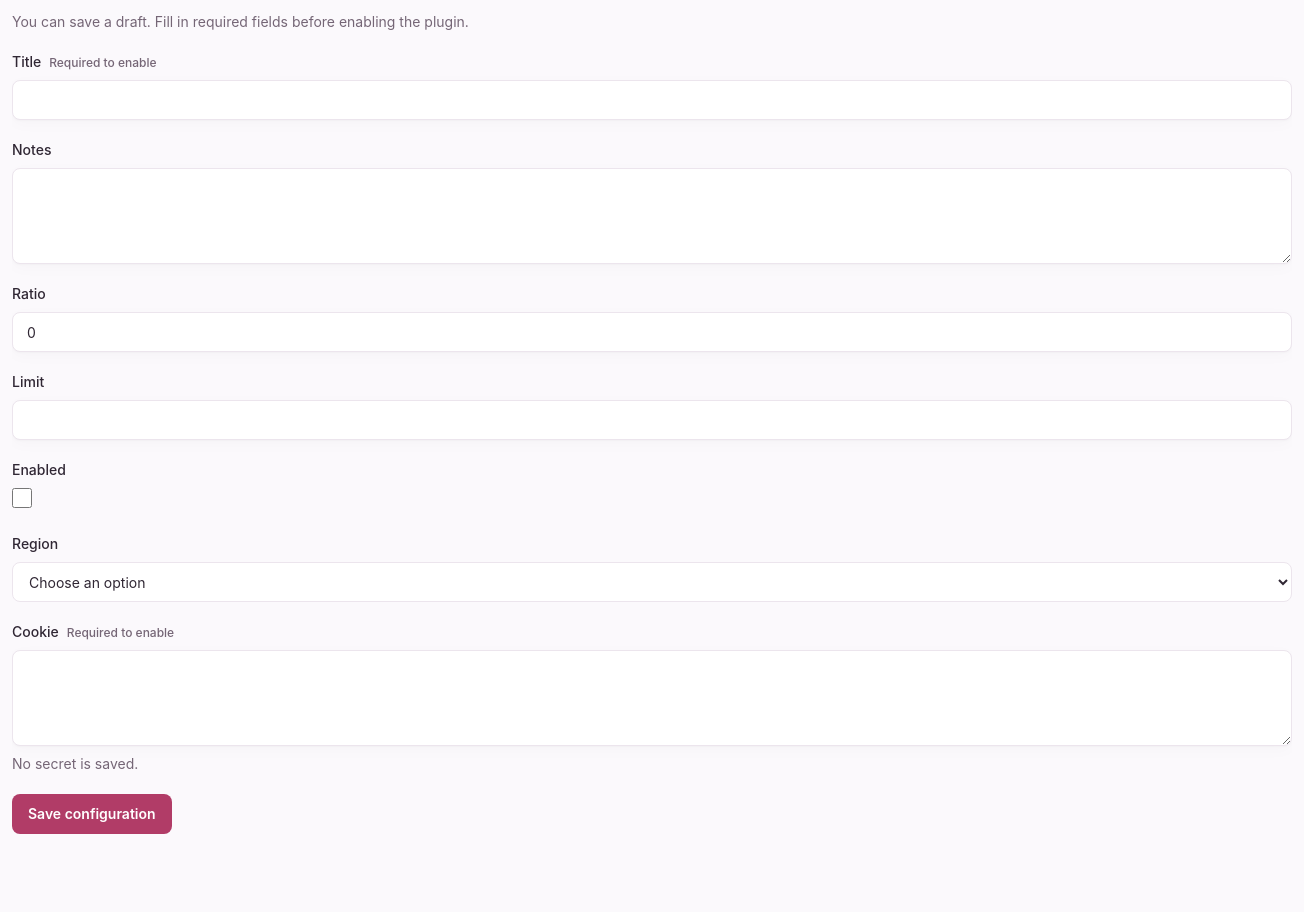
Test case: a failed save keeps the draft and retry clears new secrets only after success
In the field labelled "Title": (652, 100) [12,80,1292,120], type "Edited title"
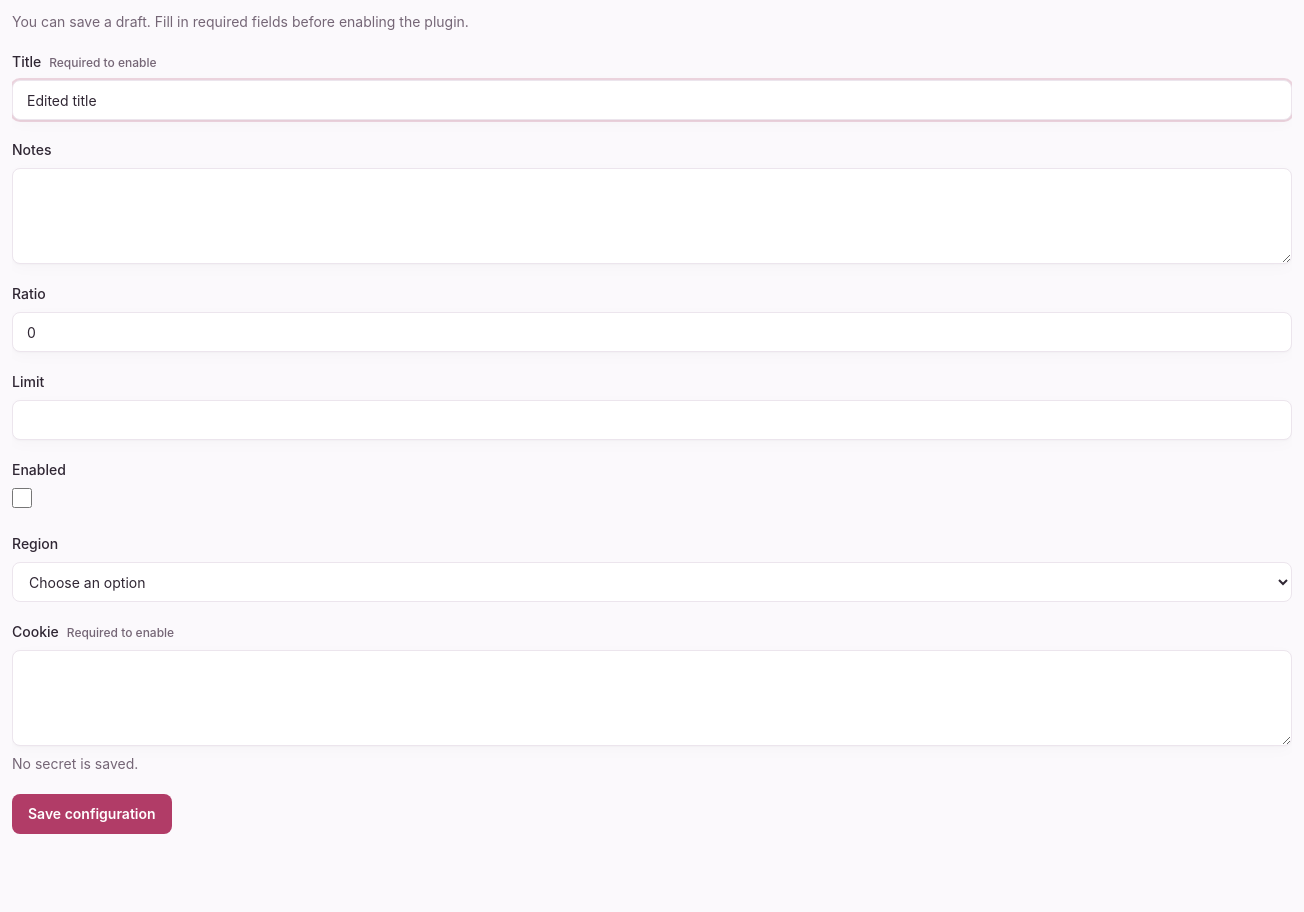
In the text box labelled "Cookie": (652, 698) [12,650,1292,746], type "synthetic-private-secret"
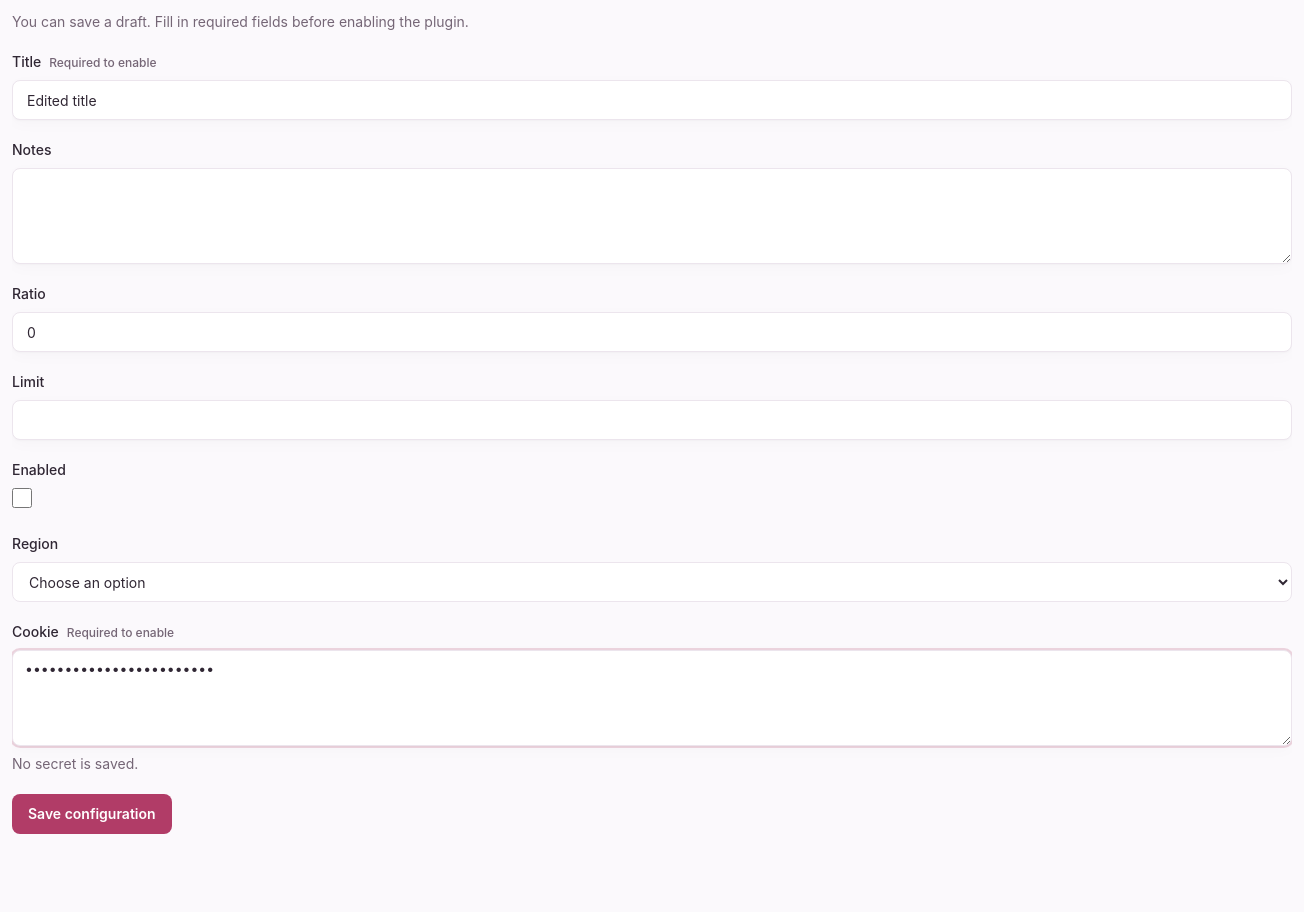
Click the button "Save configuration": (92, 814) [12,794,172,834]
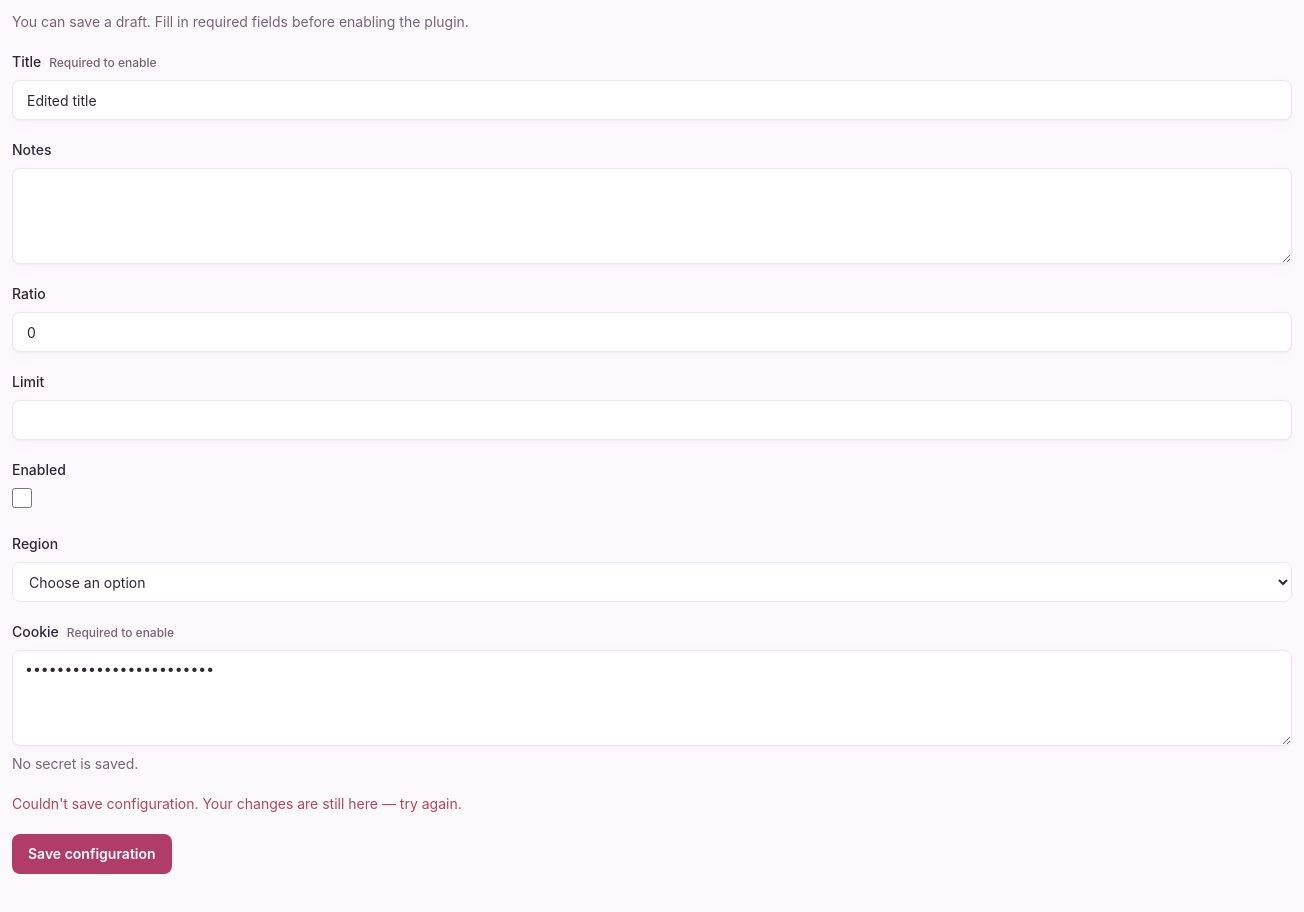
Check: the text "synthetic-private-secret" is not shown
Check: the message reads "Couldn't save configuration. Your changes are still here — try again.", box [12,795,462,812]
Click the button "Save configuration": (92, 854) [12,834,172,874]
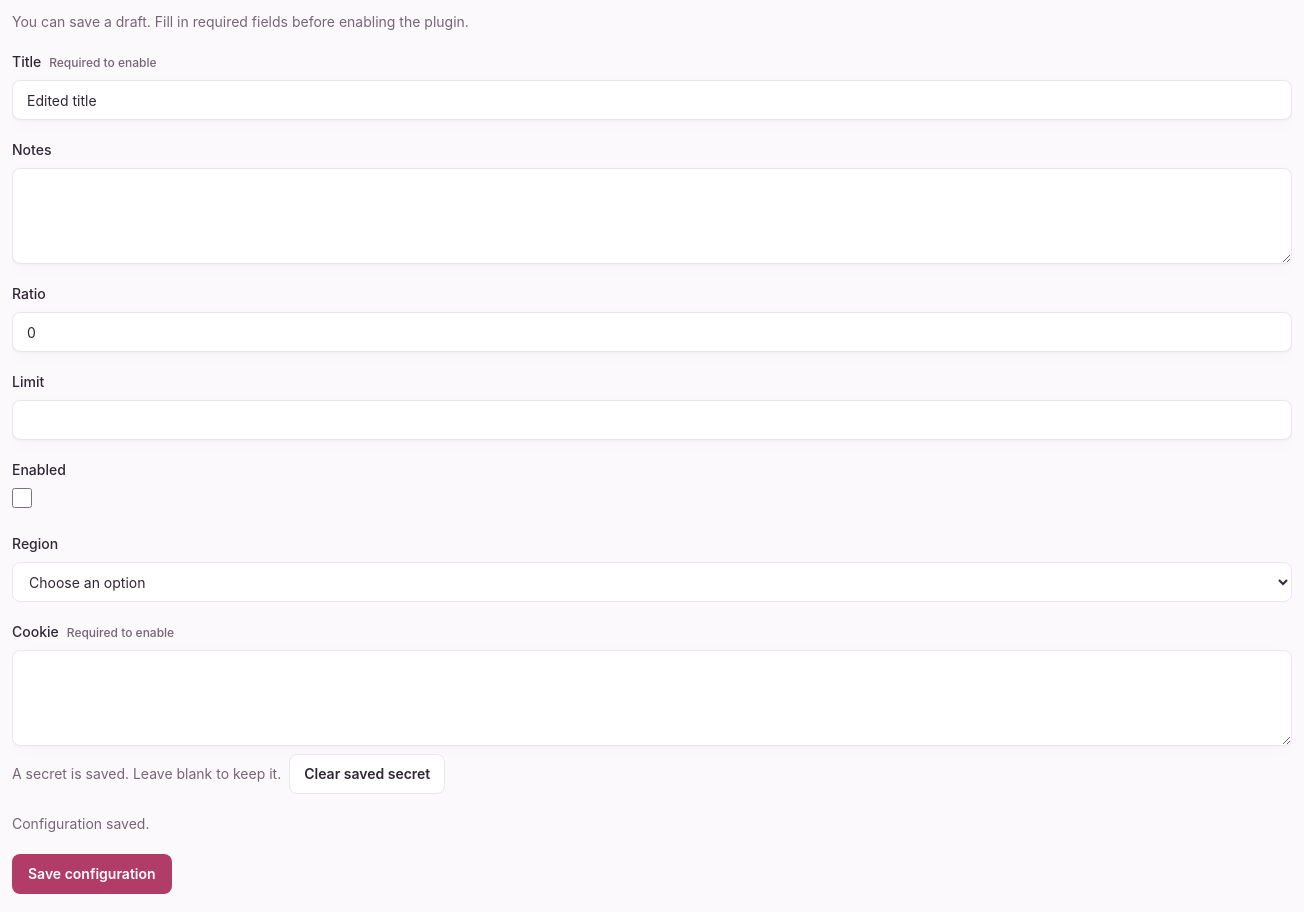
Check: the message "Configuration saved." is shown, box [12,815,150,832]
Check: the text box labelled "Cookie" is empty, box [12,650,1292,746]
